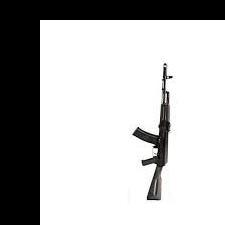larga: (132, 62, 174, 202)
